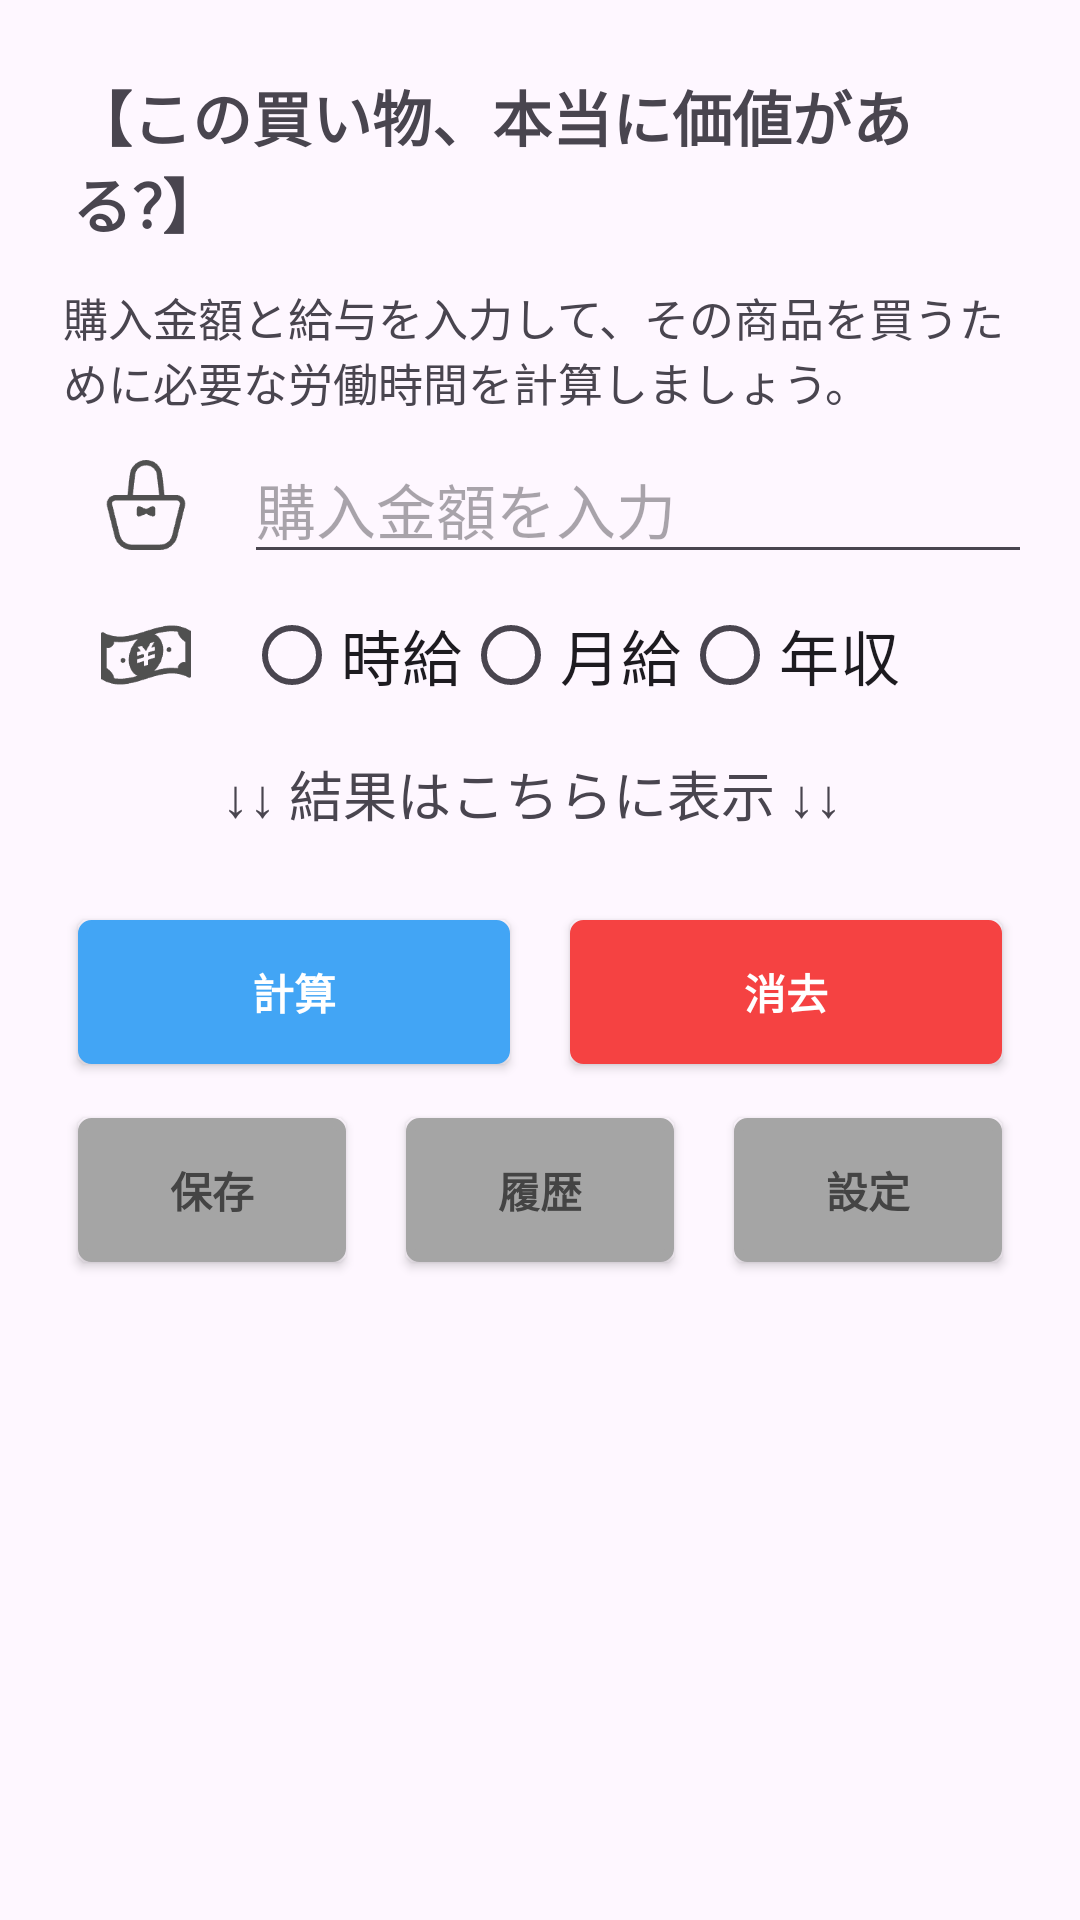

Named icons in this screenshot (1080×1920) and their bounding boxes, BBox(x1, y1, x2, y2):
bag: BBox(106, 460, 186, 550)
money: BBox(101, 625, 191, 685)
